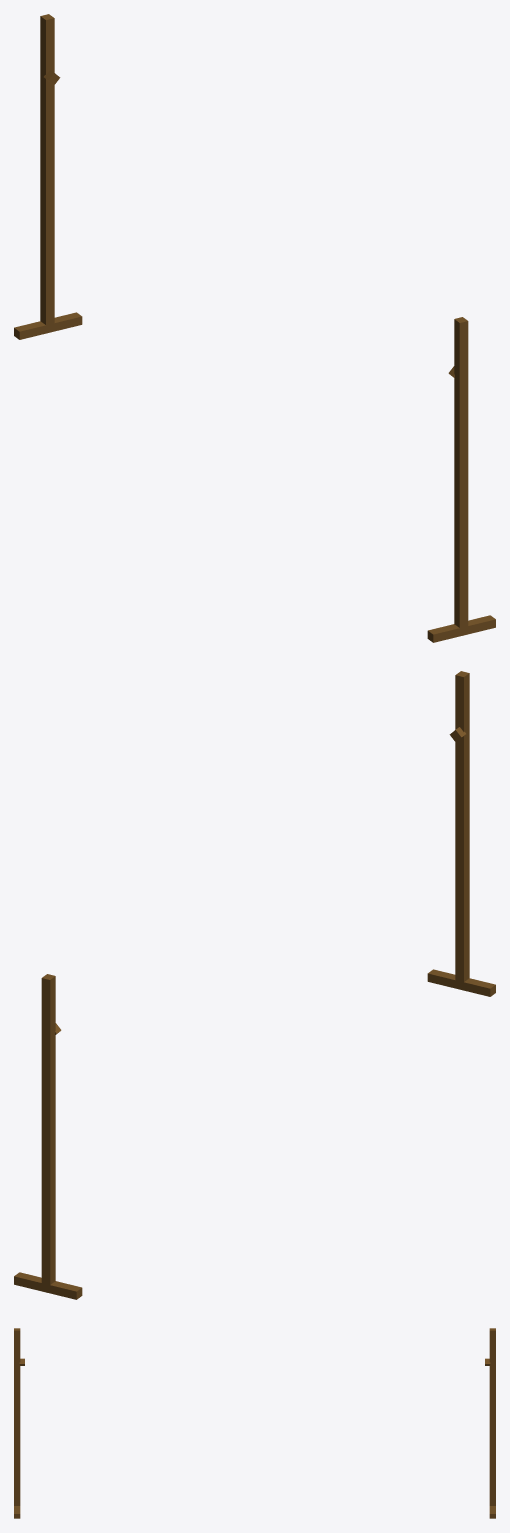
Rendered from BlackBoard_Structure_Question.fbx.
3 views of the same model, one above another, from view 1: azimuth 30°, elevation 25°; view 2: azimuth 150°, elevation 25°; view 3: azimuth 270°, elevation 25° (orthographic). The views are drawn at different scales.
Parts seen in each view (by area): view 1: BlackBoard_Structure_Question; view 2: BlackBoard_Structure_Question; view 3: BlackBoard_Structure_Question.
Boxes of the visible parts, x1,y1,x2,y2 form: BlackBoard_Structure_Question: (14,14,495,642); BlackBoard_Structure_Question: (14,671,495,1299); BlackBoard_Structure_Question: (14,1328,495,1518).
Bounding box in the file's own units: 1181 × 102 × 487.
